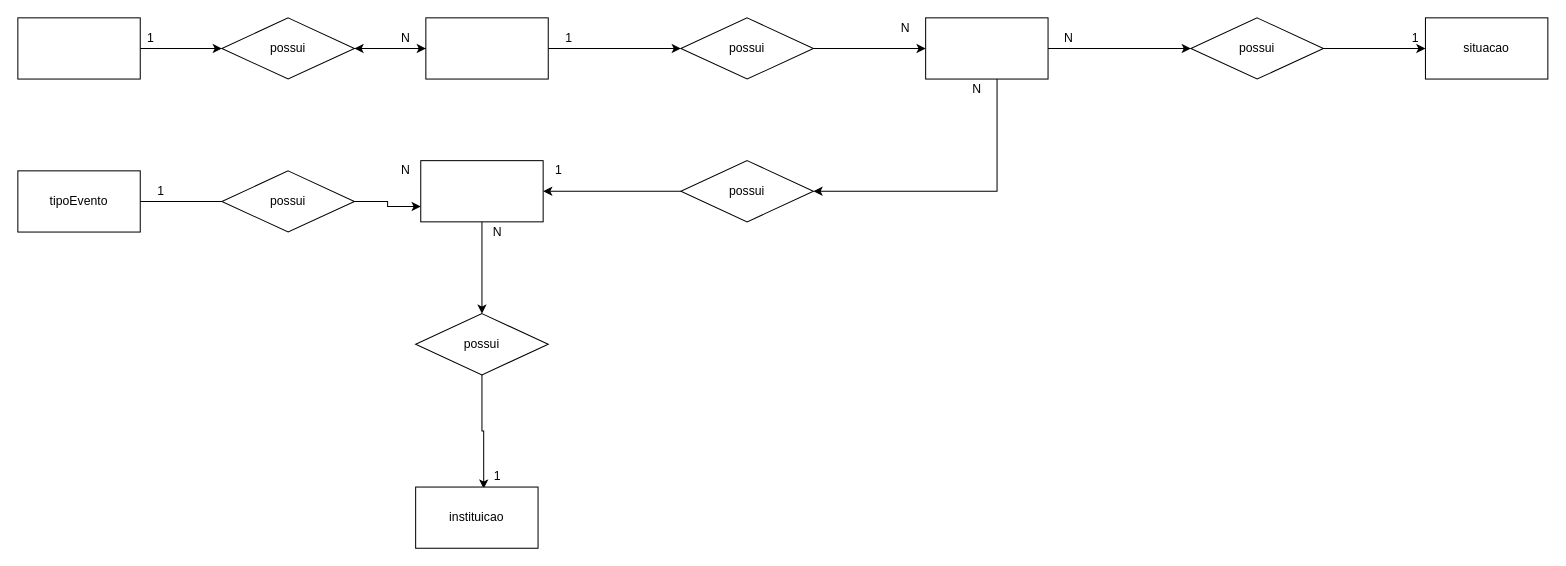
The diagram is 1566 pixels wide and 566 high, and some of its shapes have lost their labels. The shapes that lost their labels are listed below. From the top down, each one's box as (x1, y1, x2, y2) in pixels, then its label:
(17, 17, 140, 79): tipoUsuario
(425, 17, 548, 79): usuario
(925, 17, 1048, 79): presenca
(420, 160, 543, 222): evento
